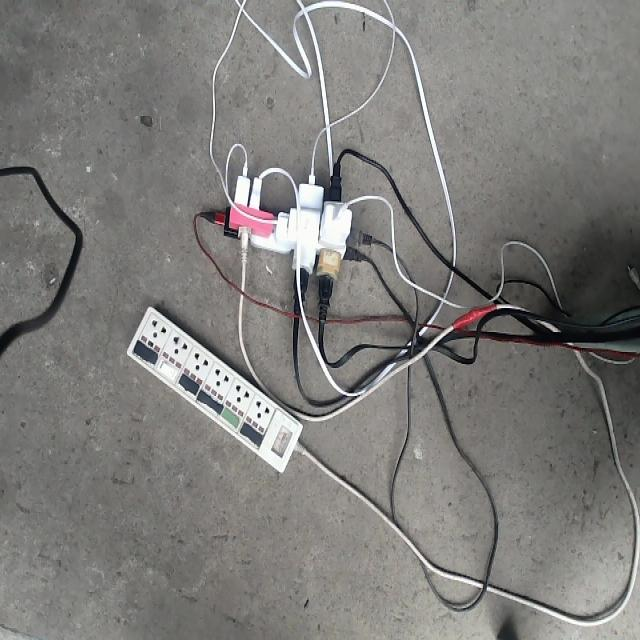-: (209, 158, 377, 290)
